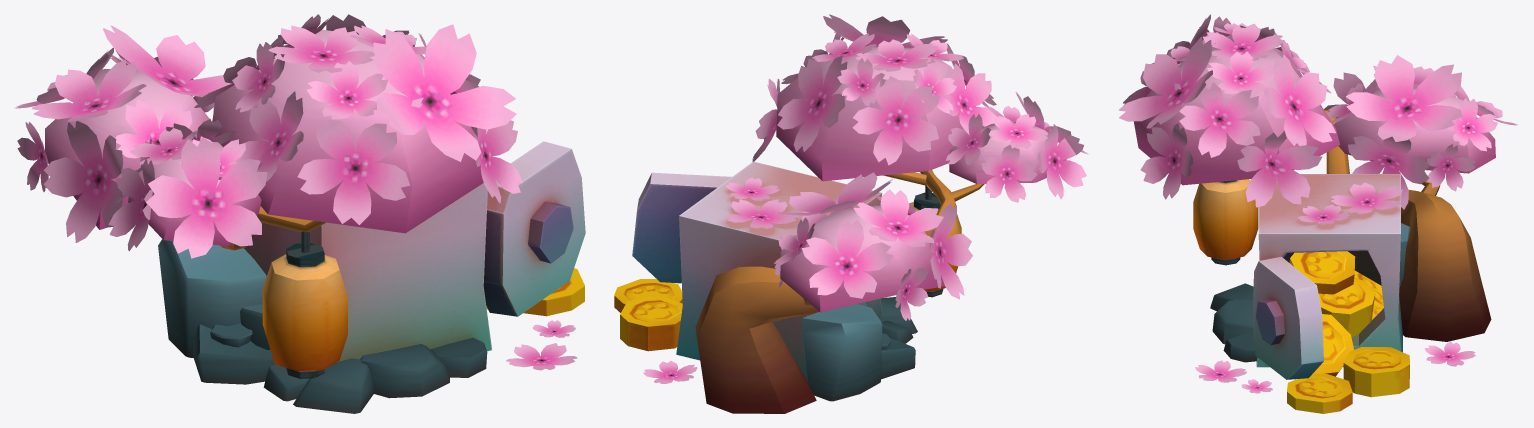
The model's file is Safe Sakura.obj.
3 views of the same model, side by side, from view 1: azimuth 30°, elevation 25°; view 2: azimuth 150°, elevation 25°; view 3: azimuth 270°, elevation 25° (orthographic). The views are drawn at different scales.
Visible parts, largest first — view 1: SafeSakura1; view 2: SafeSakura1; view 3: SafeSakura1.
Boxes of the visible parts, x1,y1,x2,y2 form: SafeSakura1: [14, 14, 585, 413]; SafeSakura1: [614, 14, 1088, 413]; SafeSakura1: [1119, 14, 1517, 413].
Size of the model in its own units: 16.54 by 11.32 by 14.79.
1 material, 1 textured.
